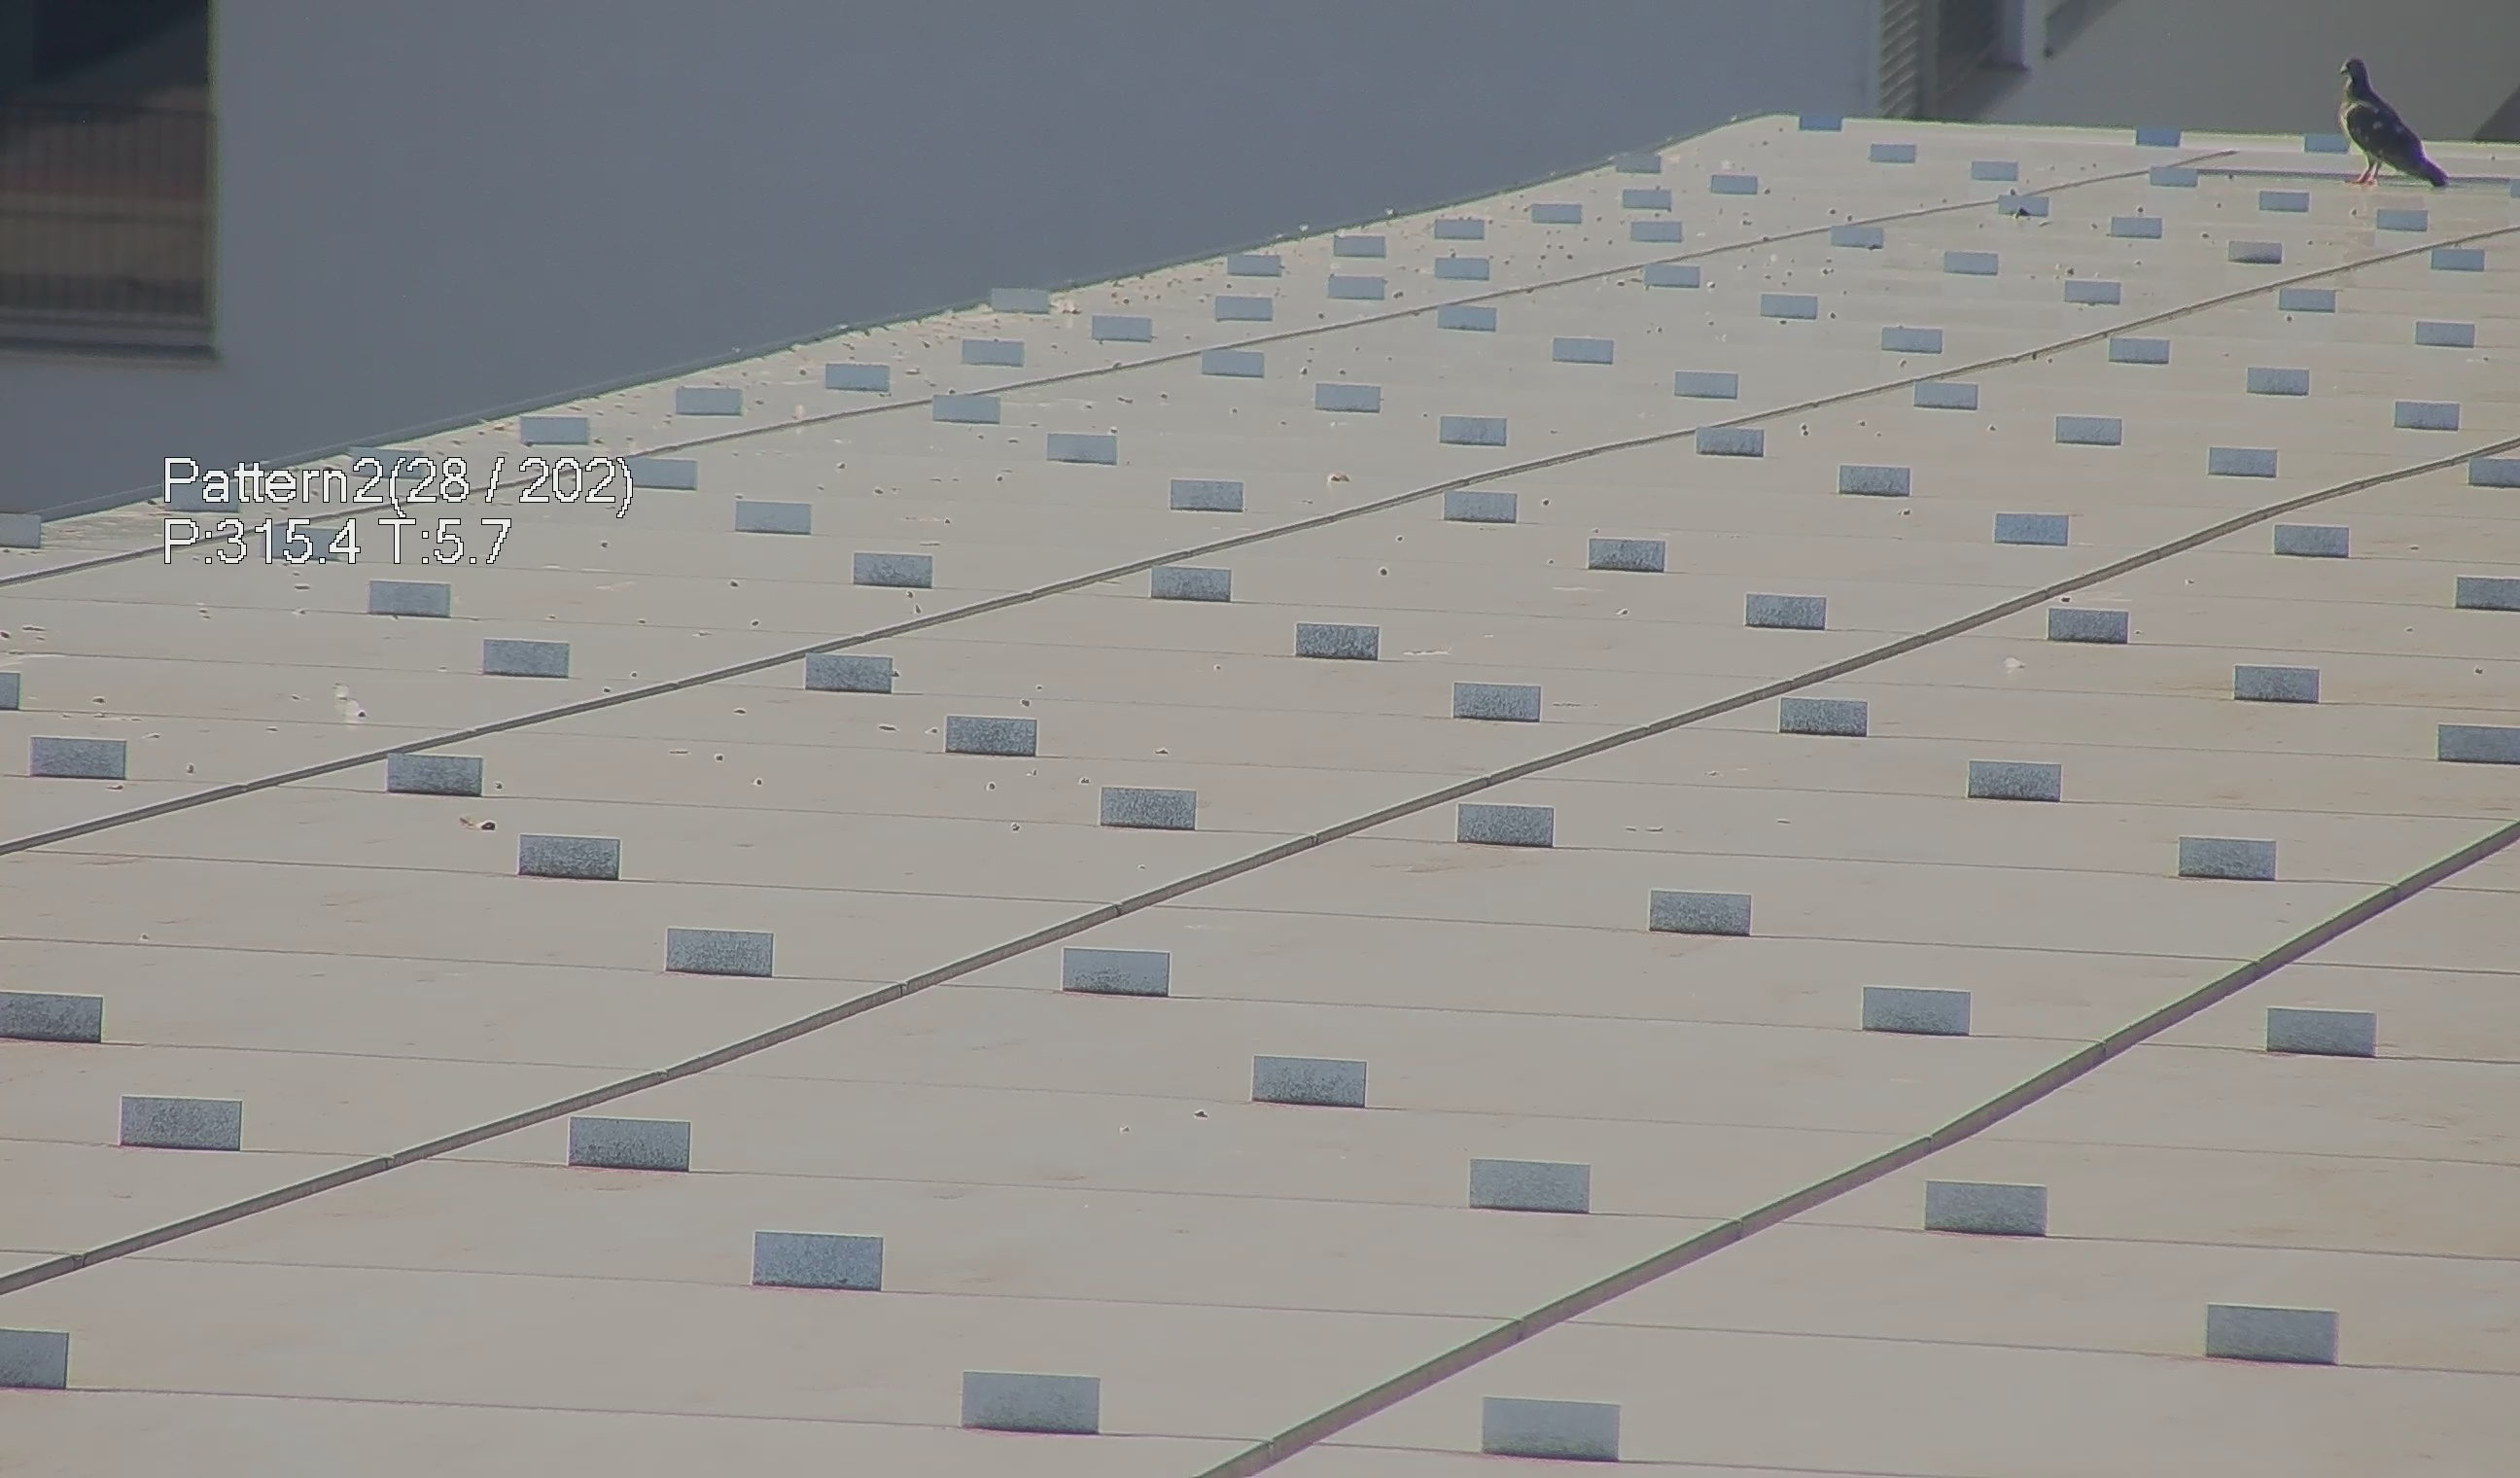Pigeon: (2330, 39, 2465, 204)
